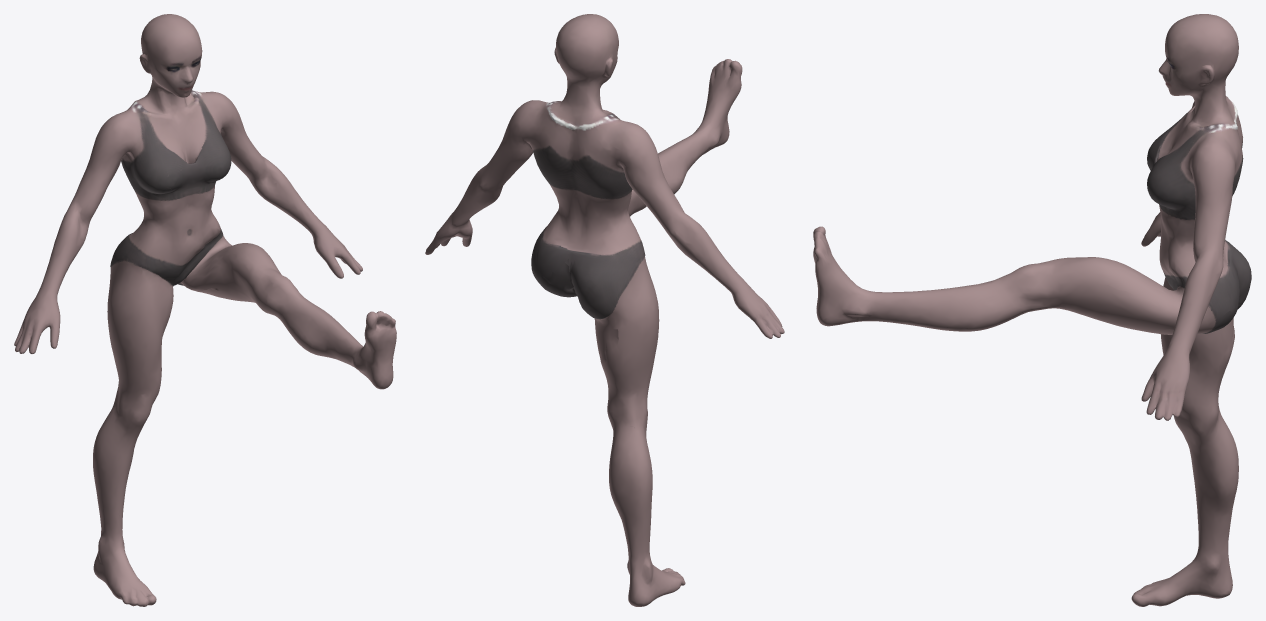
File: bounded-ThighR-90.glb
The picture shows the model from 3 angles, left to right: view 1: azimuth 30°, elevation 25°; view 2: azimuth 150°, elevation 25°; view 3: azimuth 270°, elevation 25°; orthographic projection. The views are drawn at different scales.
Visible parts, largest first — view 1: bounded-ThighR-90; view 2: bounded-ThighR-90; view 3: bounded-ThighR-90.
Part boxes in pixels (x1,y1,x2,y2): bounded-ThighR-90: [14, 14, 396, 606]; bounded-ThighR-90: [425, 14, 784, 606]; bounded-ThighR-90: [813, 14, 1251, 606].
Size of the model in its own units: 0.6509 by 1 by 0.6476.
Materials: 1 (1 with a texture image).
